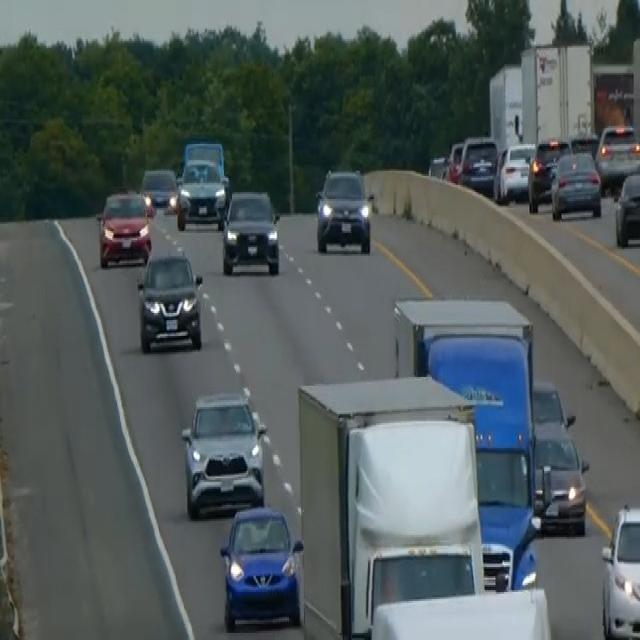car: (180, 388, 267, 518), (218, 501, 304, 631), (136, 249, 204, 354), (532, 419, 589, 534), (600, 500, 639, 638), (221, 187, 280, 276), (95, 186, 153, 268), (175, 155, 227, 231), (550, 147, 602, 220), (527, 135, 571, 212), (595, 121, 639, 190), (493, 140, 536, 202), (531, 378, 574, 434), (458, 135, 497, 196), (613, 167, 639, 247), (181, 137, 226, 181), (140, 165, 177, 210), (569, 132, 599, 160), (445, 139, 464, 183), (427, 151, 450, 180)
jeep: (314, 166, 373, 254)
lorry: (296, 372, 487, 638), (392, 293, 541, 592)
